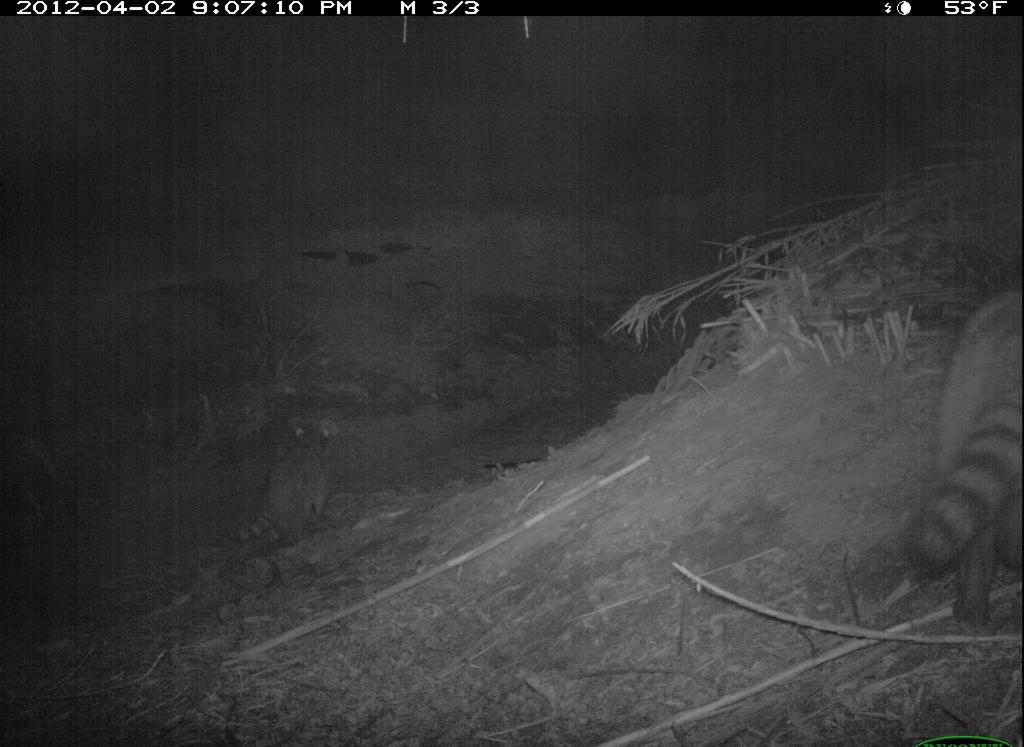raccoon: (894, 281, 1022, 633)
